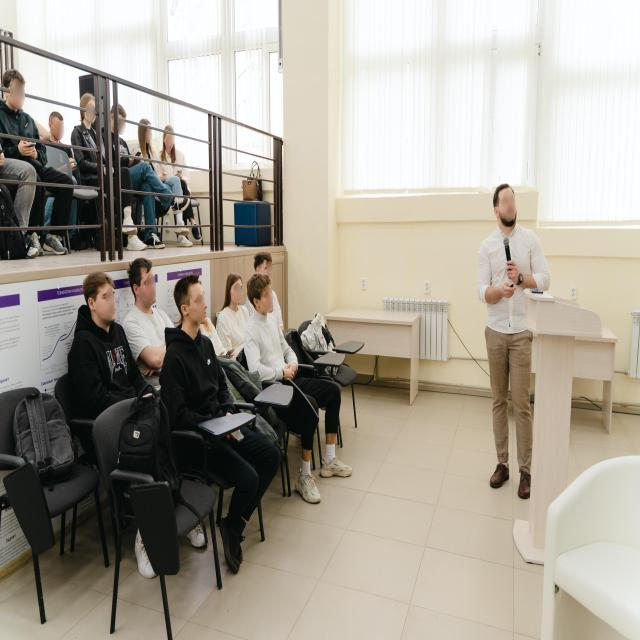Person: (164, 269, 276, 583), (463, 175, 561, 502), (271, 260, 346, 517), (0, 65, 72, 254), (65, 270, 134, 459), (107, 99, 159, 249), (70, 97, 114, 234), (128, 254, 162, 402), (162, 118, 202, 236), (136, 113, 176, 215), (217, 275, 257, 362), (46, 109, 74, 186)
